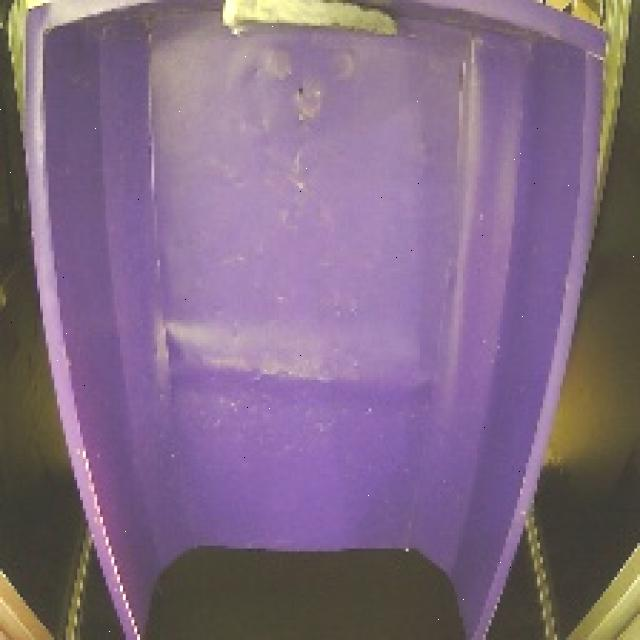china: (217, 0, 411, 58)
